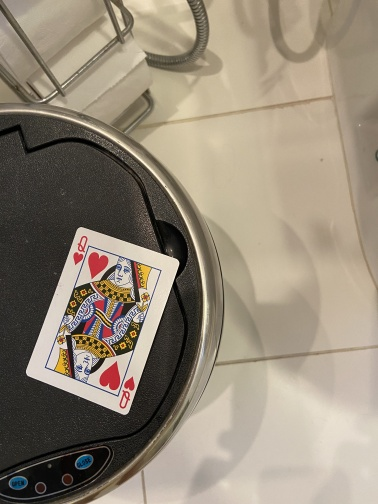queen: (23, 224, 182, 418)
